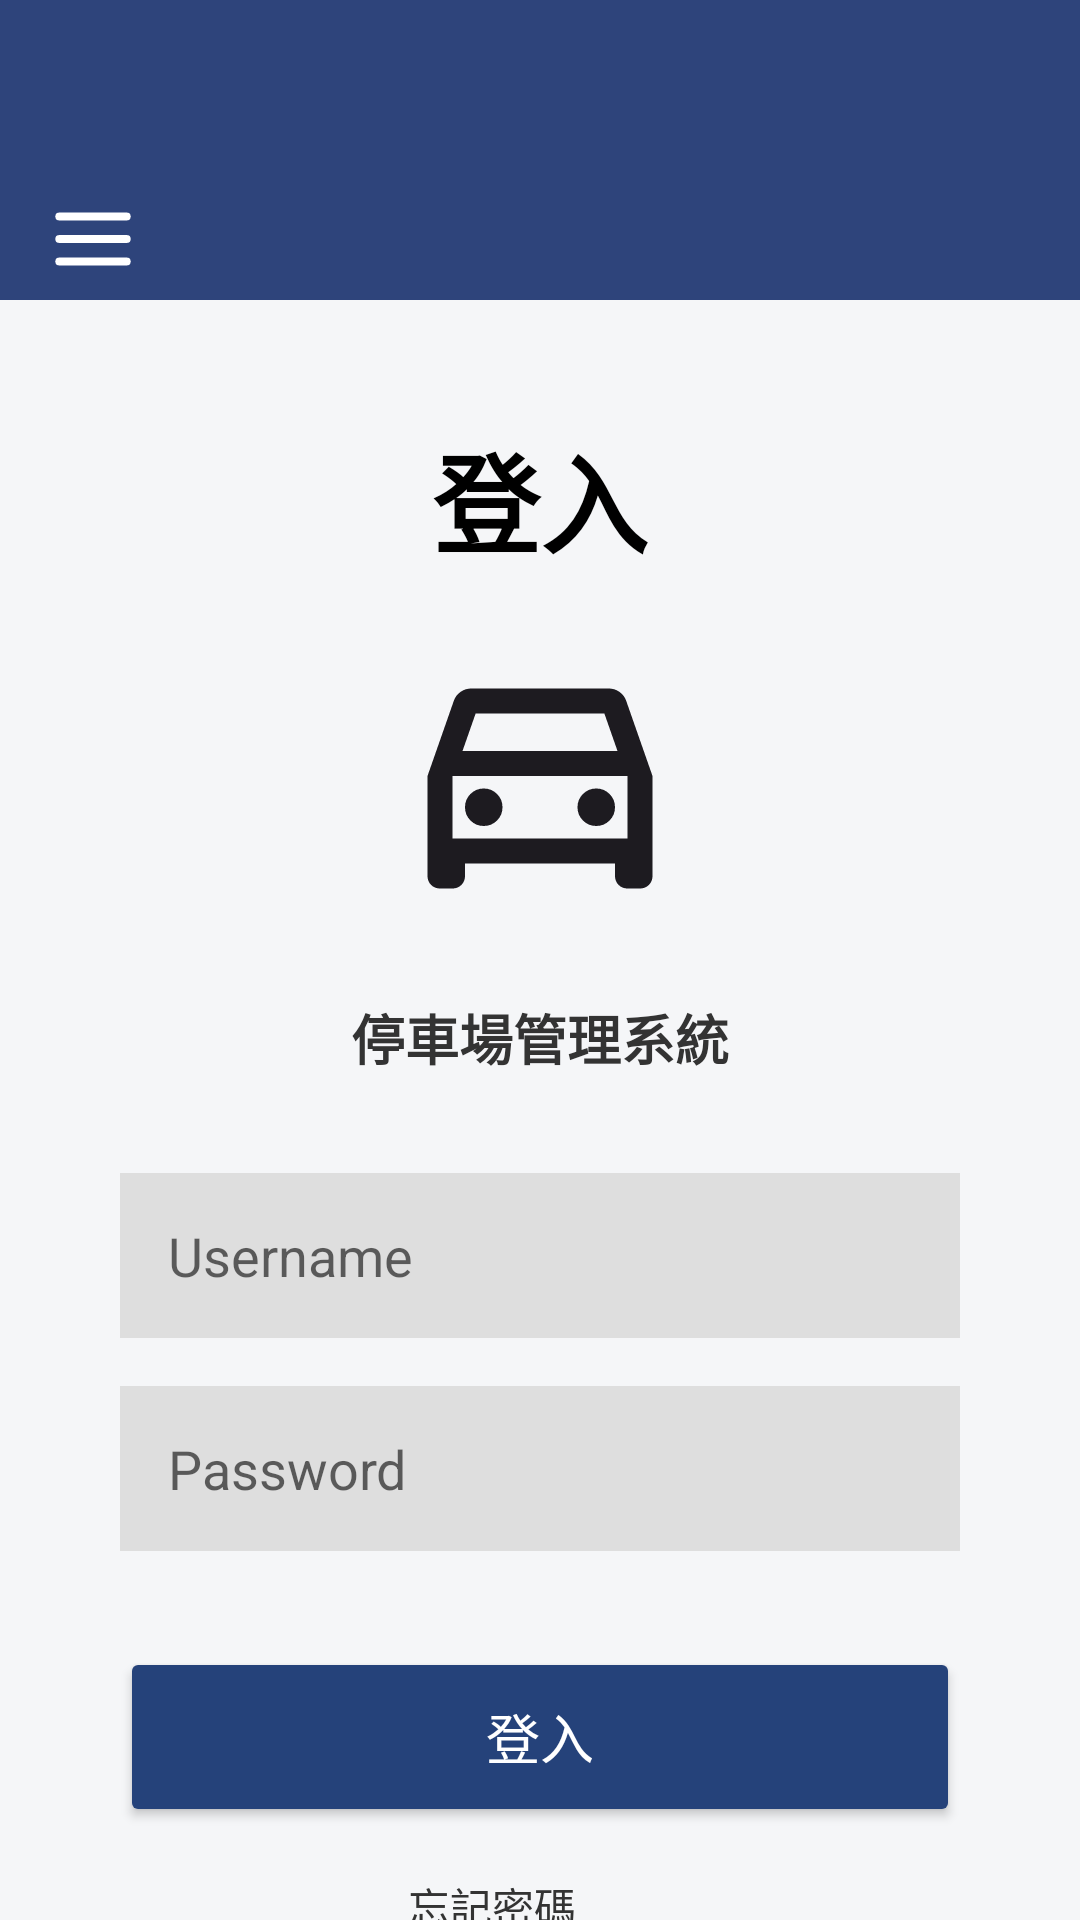

Icon click points for this 1080 × 1920 phone screenshot, format (x=x, y=y):
car: (x=540, y=788)
menu: (x=93, y=239)
